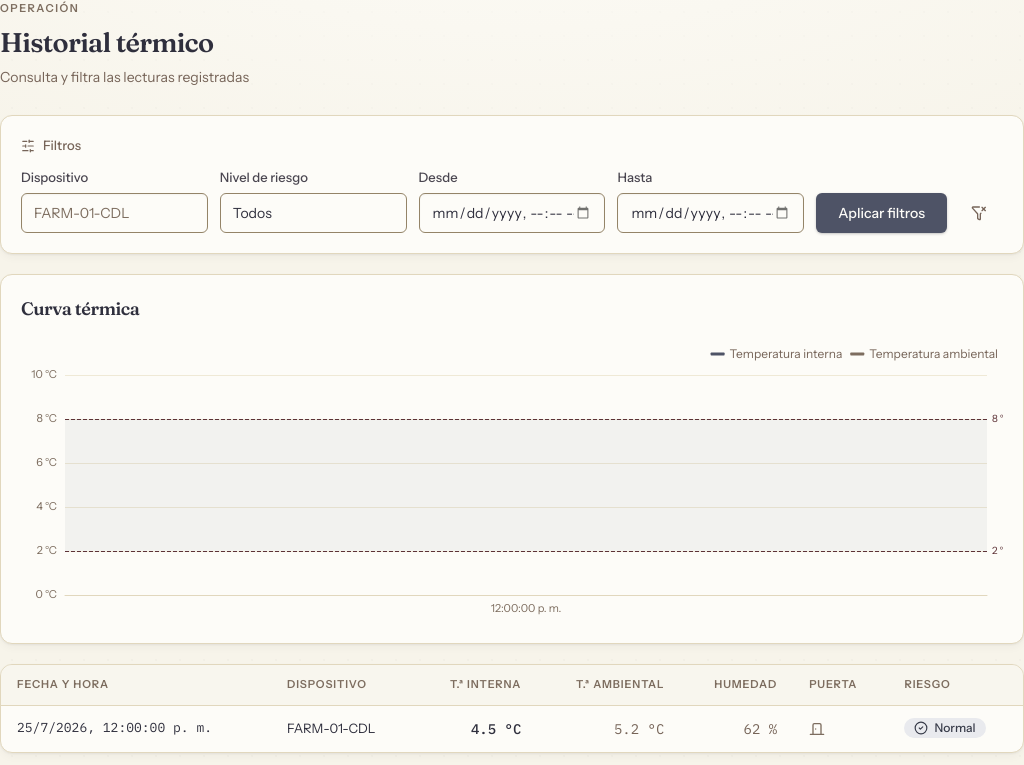
Test: HistorialPage (RF-12, HU-36) › bloquea la consulta en el frontend cuando el rango está invertido (HU-36 criterio 3)
In the field labelled "Desde": (512, 213) x1=419 y1=193 x2=605 y2=233, type "2026-07-25T12:00"
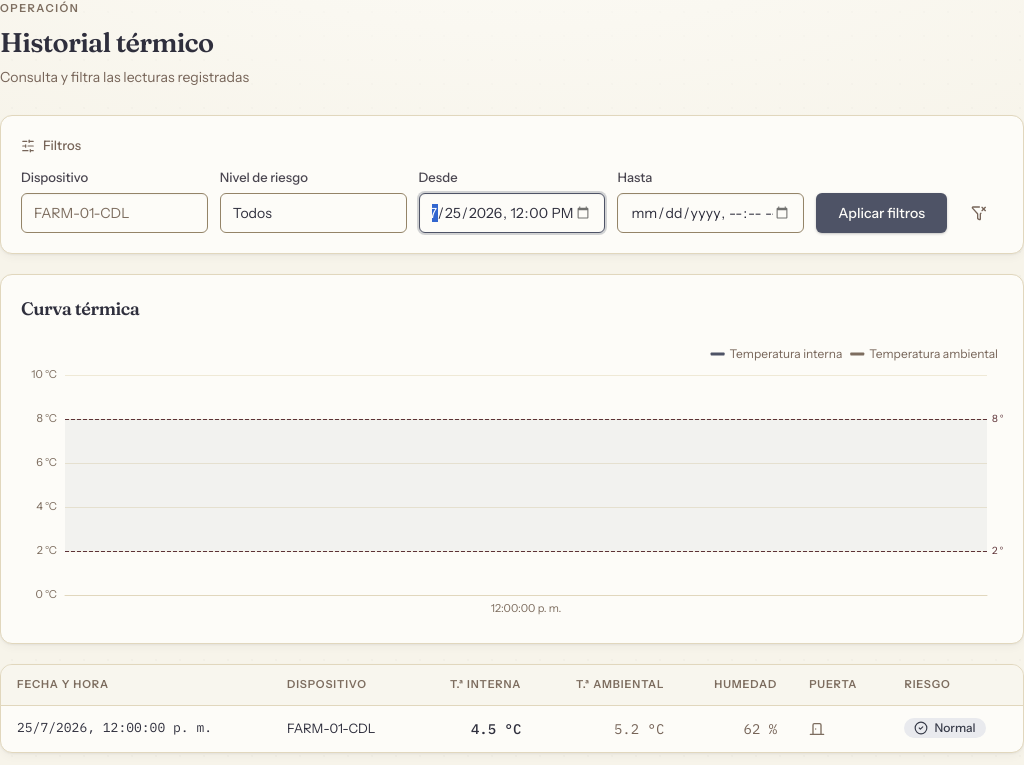
In the field labelled "Hasta": (711, 213) x1=617 y1=193 x2=804 y2=233, type "2026-07-20T12:00"
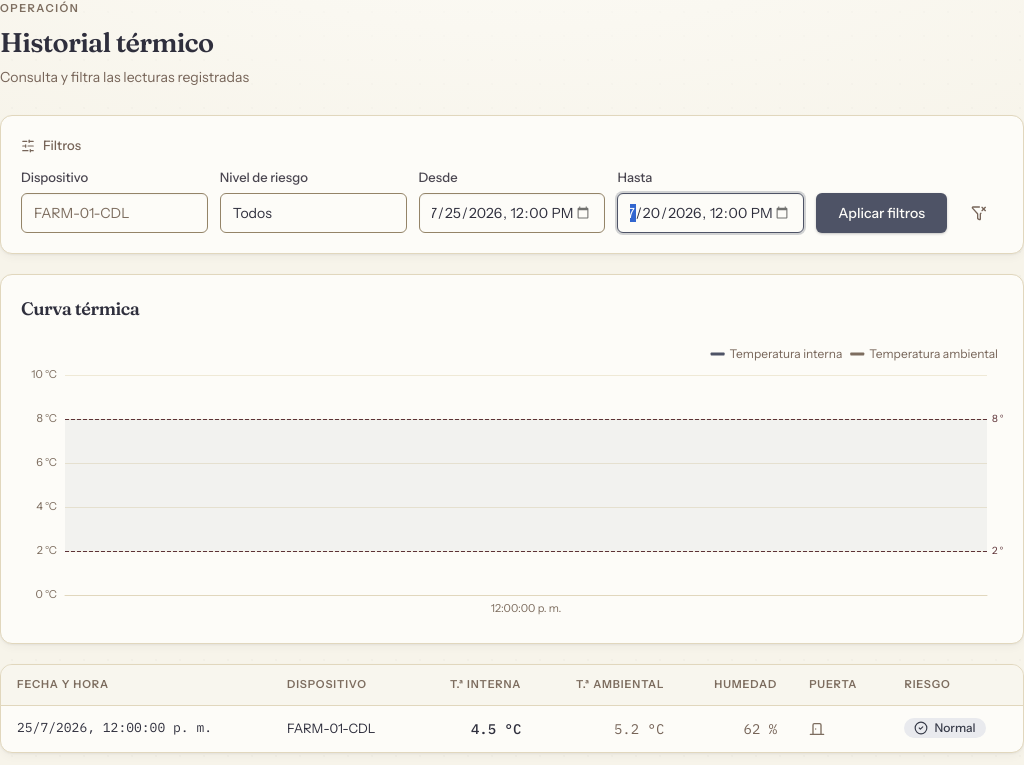
Click the button "Aplicar filtros": (882, 213) x1=816 y1=193 x2=947 y2=233
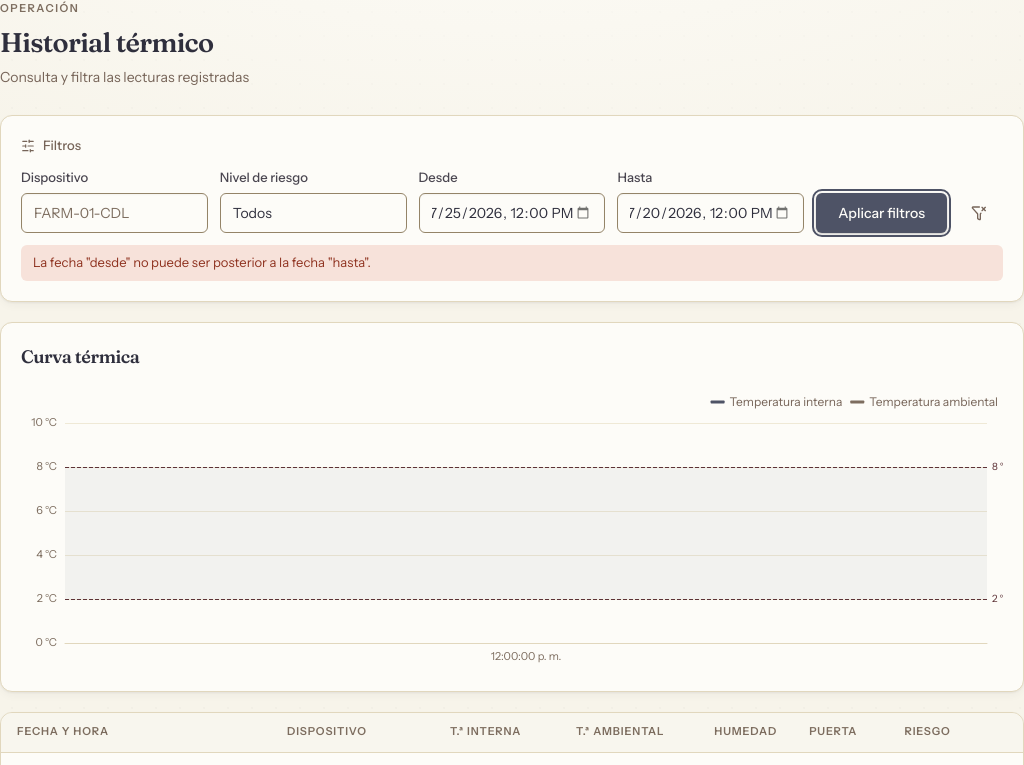
Check: the message reads "La fecha \"desde\" no puede ser posterior a la fecha \"hasta\".", box x1=33 y1=254 x2=371 y2=270
